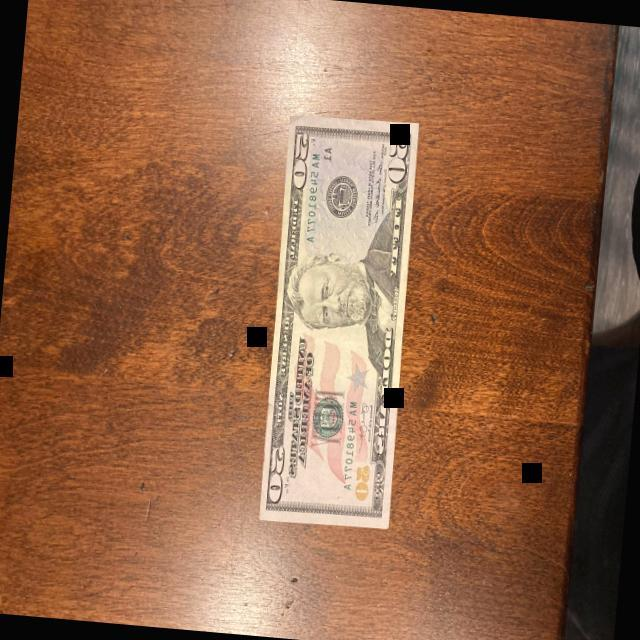fifty: (252, 113, 423, 531)
